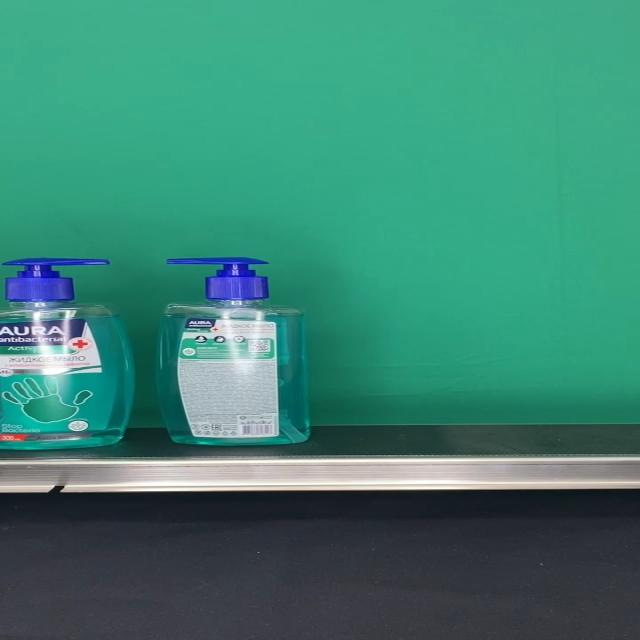Bottle: (155, 257, 310, 446), (0, 258, 135, 450)
Cap: (5, 259, 110, 301), (165, 258, 268, 300)
